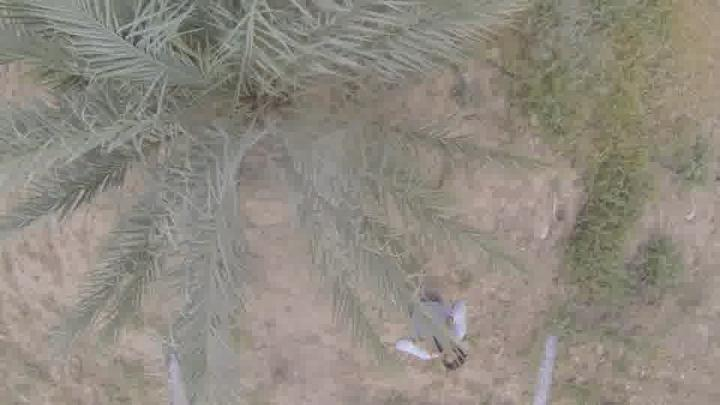Date-Palm-Crown: (56, 2, 391, 254)
